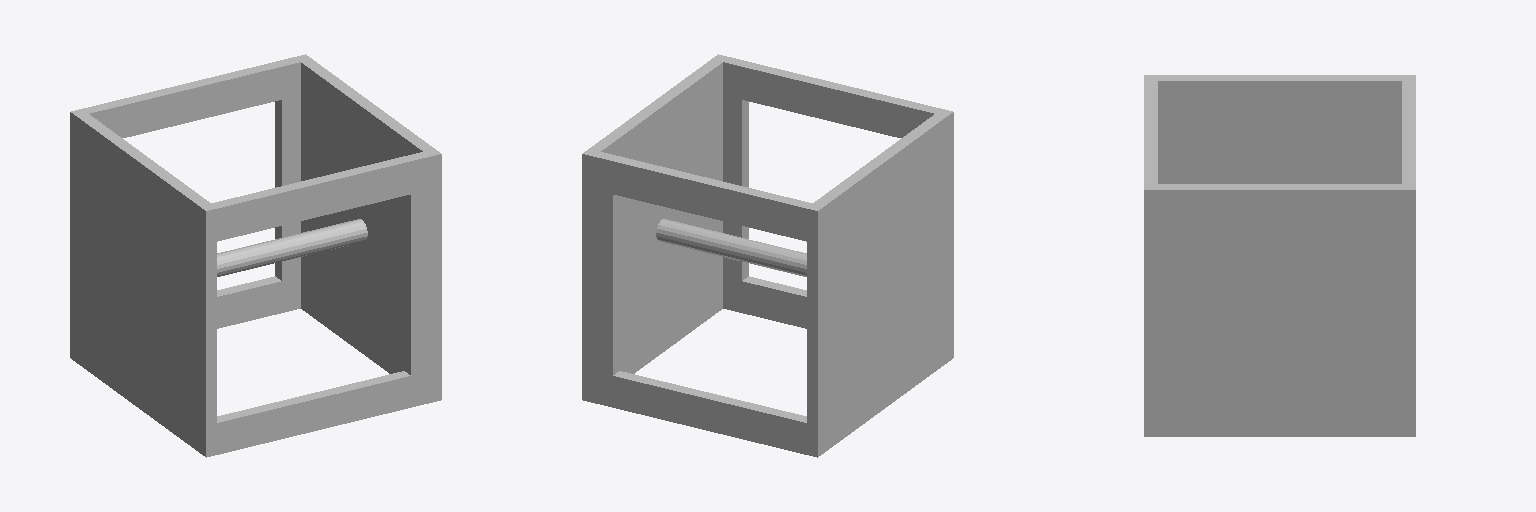
The model's file is BaseCube.obj.
3 views of the same model, side by side, from view 1: azimuth 30°, elevation 25°; view 2: azimuth 150°, elevation 25°; view 3: azimuth 270°, elevation 25° (orthographic).
Visible parts, largest first — view 1: Body; view 2: Body; view 3: Body.
Part boxes in pixels (x1,y1,x2,y2): Body: (70, 54, 441, 457); Body: (582, 54, 953, 457); Body: (1144, 75, 1415, 436).
Size of the model in its own units: 100 by 100 by 100.